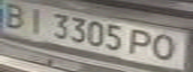0: (84, 18, 106, 50)
3: (45, 10, 72, 42), (66, 15, 87, 45)
5: (103, 21, 130, 53)
B: (0, 1, 30, 29)
I: (21, 5, 51, 35)
O: (148, 32, 184, 63)
P: (127, 27, 157, 57)
